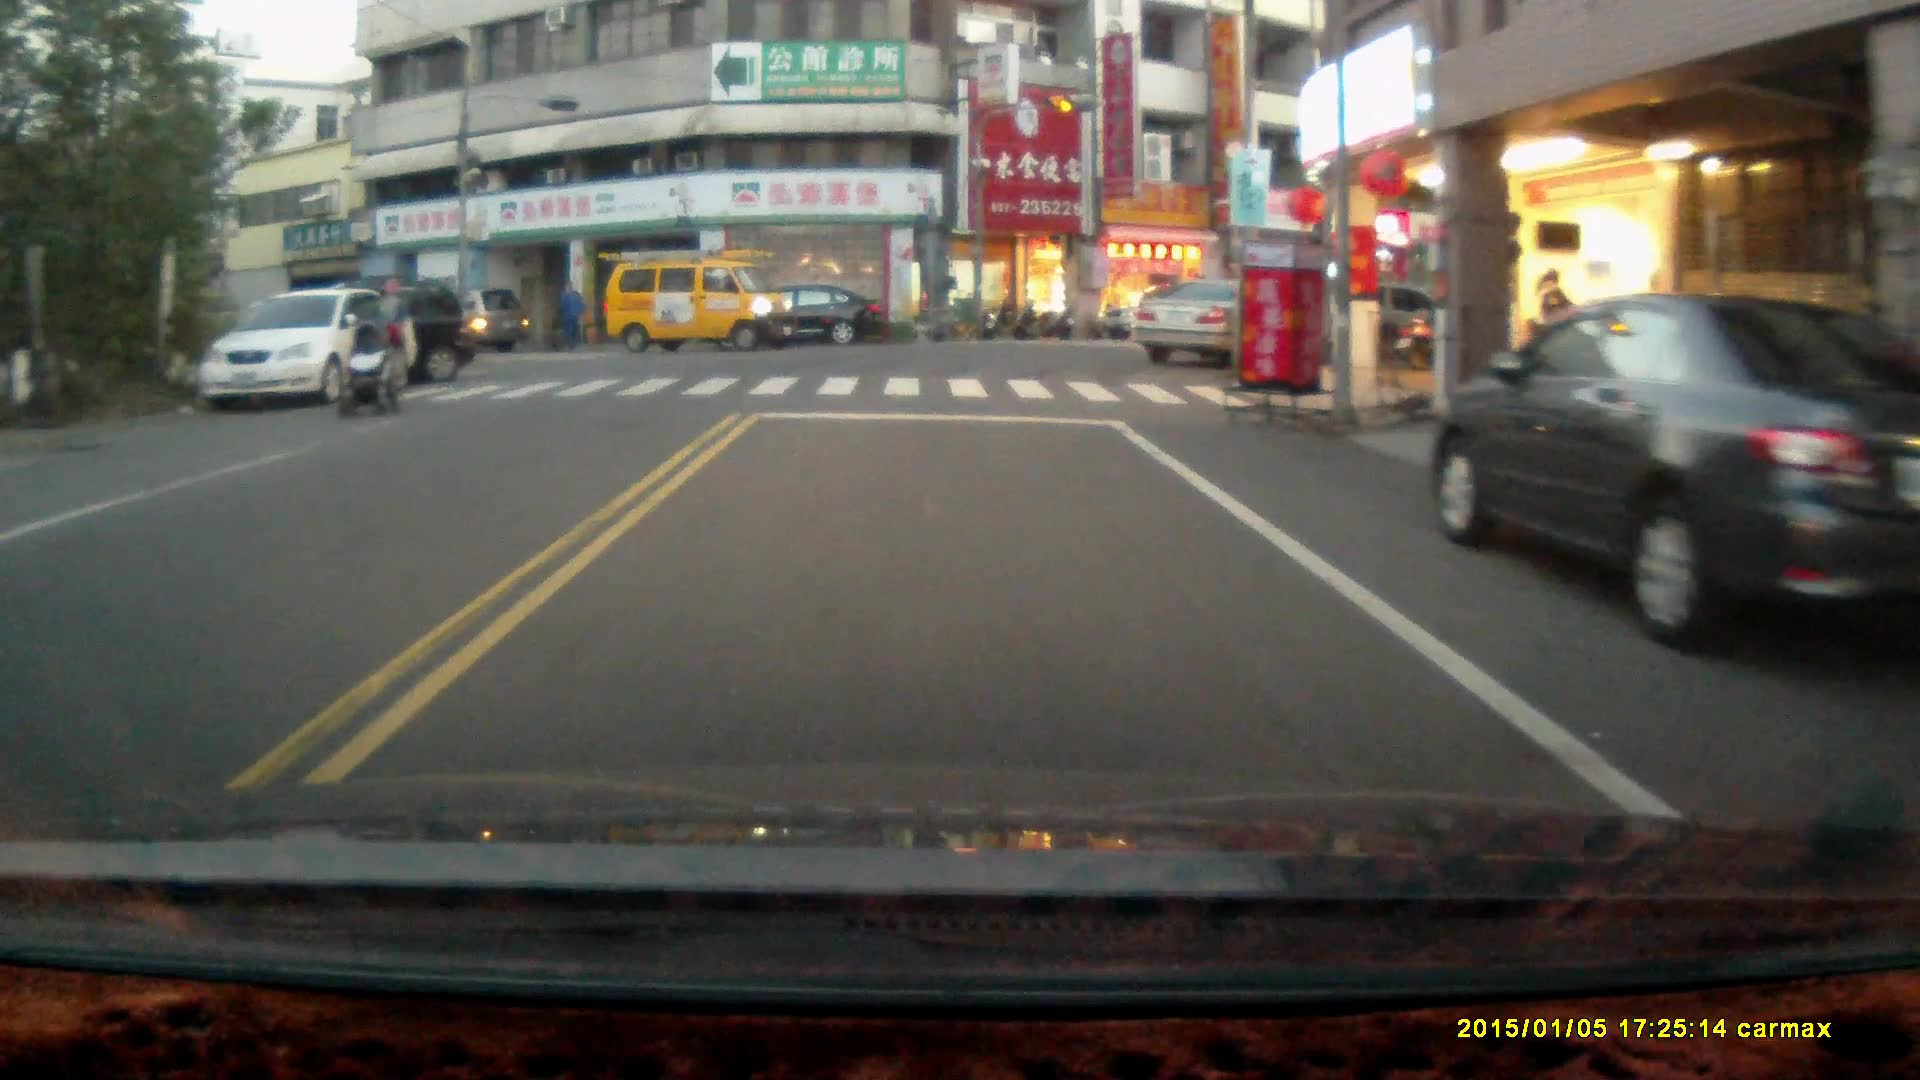pedestrian: (365, 273, 408, 401), (1540, 267, 1573, 388), (553, 278, 579, 350)
rider: (331, 319, 399, 421)
vehicle: (1426, 299, 1920, 661), (199, 292, 411, 417), (257, 272, 474, 383), (604, 250, 793, 354), (724, 278, 886, 348), (402, 285, 536, 364), (1132, 284, 1248, 372)
